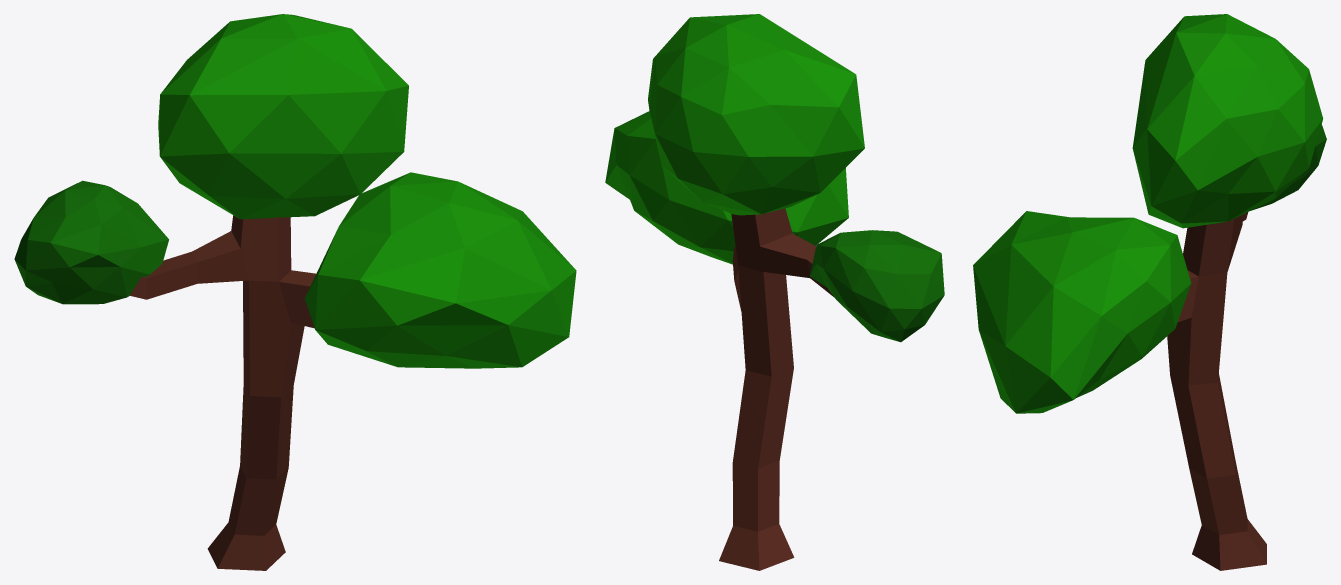
The model's file is tree9.fbx.
The picture shows the model from 3 angles, left to right: view 1: azimuth 30°, elevation 25°; view 2: azimuth 150°, elevation 25°; view 3: azimuth 270°, elevation 25°; orthographic projection. The views are drawn at different scales.
Visible parts, largest first — view 1: Tree3.003; view 2: Tree3.003; view 3: Tree3.003.
Boxes of the visible parts, x1,y1,x2,y2 form: Tree3.003: (14,14,576,570); Tree3.003: (605,14,944,570); Tree3.003: (973,14,1326,570).
Size of the model in its own units: 16.91 by 19.35 by 11.55.
